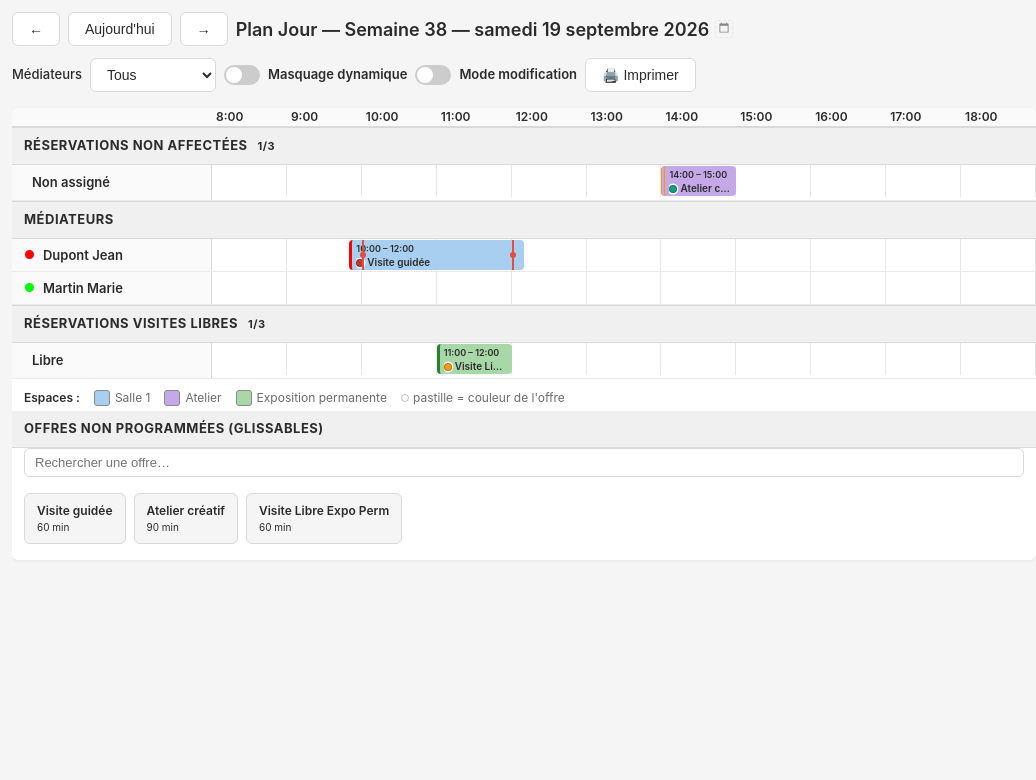
Test: DailyView › offer search filter › should render a case-insensitive text filter above the offers list
This screenshot has width=1036, height=780.
Expected: the number of elements with class "daily-offer" is 3, [24, 492, 126, 544]; [134, 492, 238, 544]; [246, 492, 402, 544]
Step 1. Type "VISITE" into the field with id "daily-offer-search" → (524, 462), box [24, 448, 1024, 476]
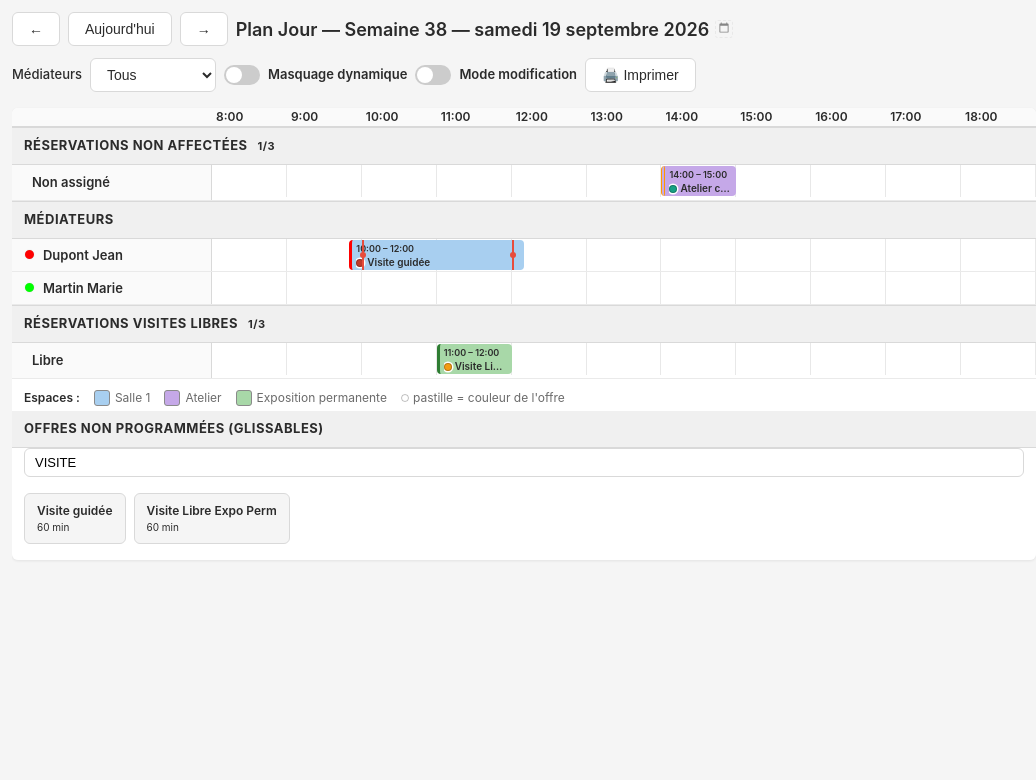
Expected: the number of elements with class "daily-offer" is 2, [24, 492, 126, 544]; [134, 492, 290, 544]
